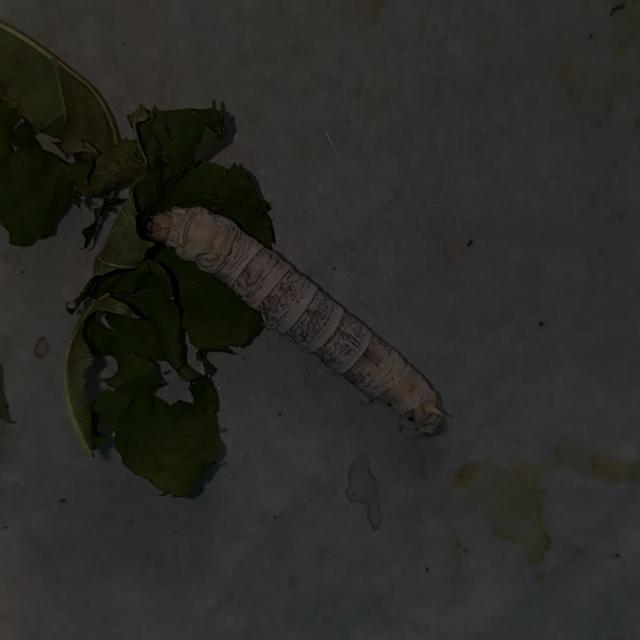Grasserie: (142, 192, 450, 446)
